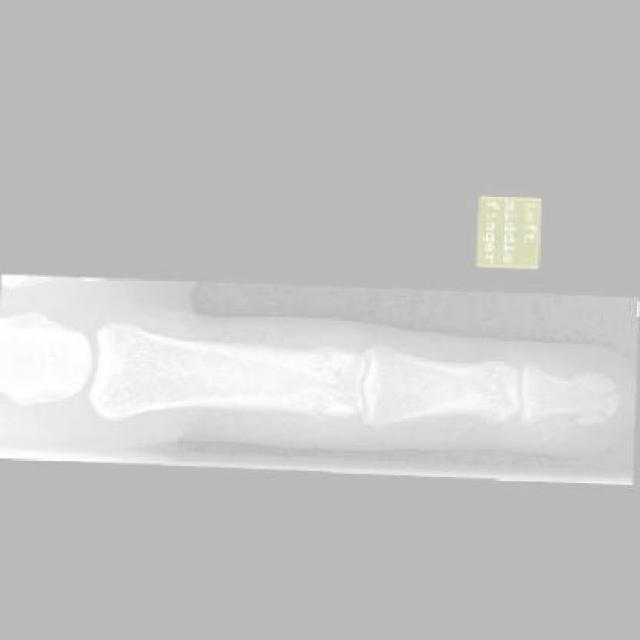Fracture: (565, 360, 627, 425)
